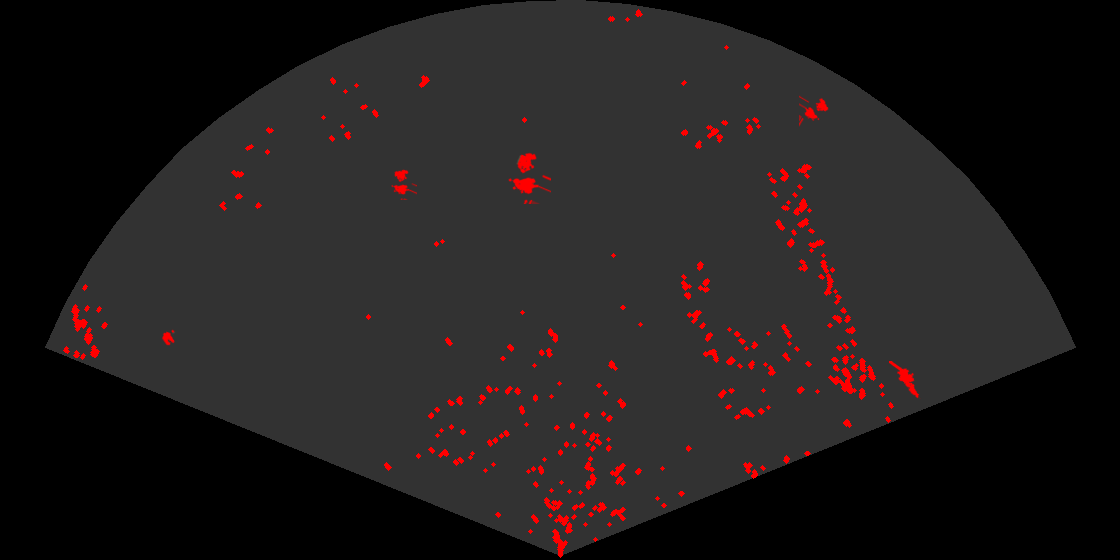ball: (160, 328, 176, 347)
cage: (507, 151, 551, 204), (799, 94, 830, 128), (390, 168, 417, 200)
frogman: (889, 361, 922, 399)
